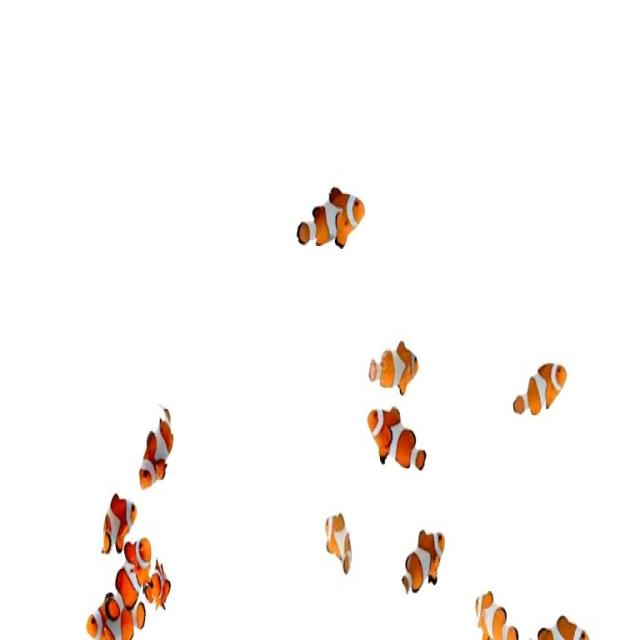fish: (291, 162, 371, 270), (363, 403, 441, 484), (358, 321, 428, 408), (507, 356, 579, 431), (134, 408, 184, 492), (394, 528, 449, 603), (115, 533, 159, 621), (471, 573, 524, 640), (81, 596, 149, 640), (100, 489, 142, 555), (321, 507, 354, 581), (536, 609, 594, 640)
